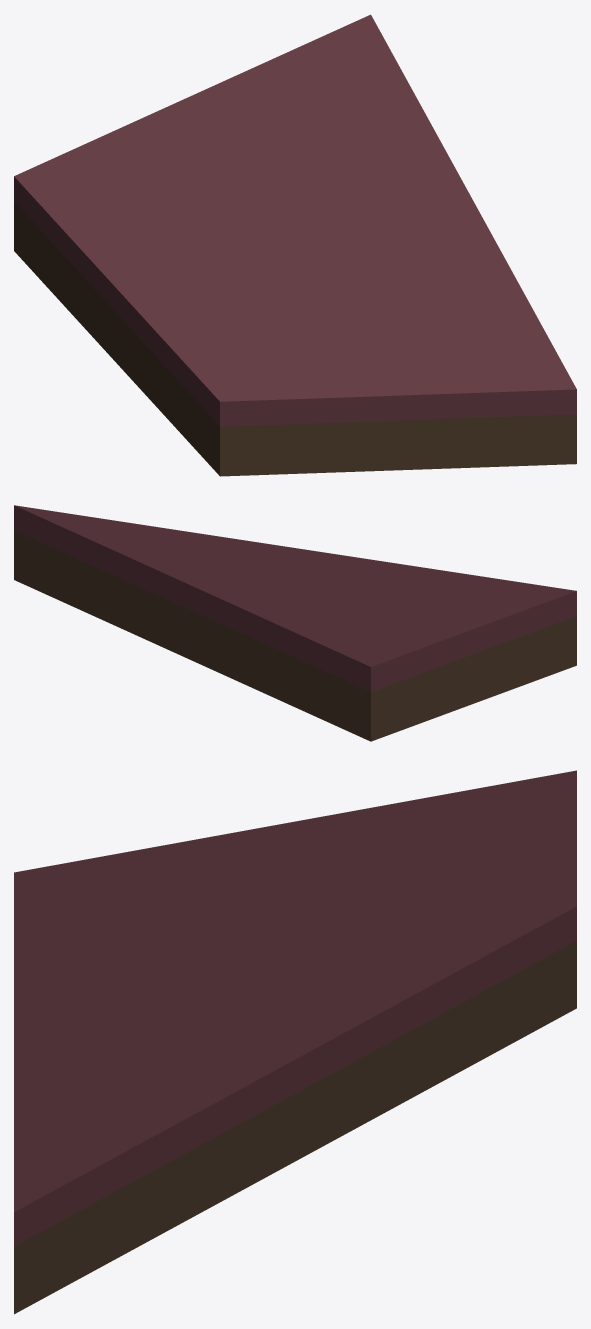
File: tile-hill-askew-valley-corner.fbx
The picture shows the model from 3 angles, top to bottom: view 1: azimuth 30°, elevation 25°; view 2: azimuth 150°, elevation 25°; view 3: azimuth 270°, elevation 25°; orthographic projection. The views are drawn at different scales.
Parts seen in each view (by area): view 1: tile-hill-askew-valley-corner; view 2: tile-hill-askew-valley-corner; view 3: tile-hill-askew-valley-corner.
Boxes of the visible parts, <box> form: tile-hill-askew-valley-corner: <box>14,14,576,476</box>; tile-hill-askew-valley-corner: <box>14,505,576,741</box>; tile-hill-askew-valley-corner: <box>14,770,576,1314</box>.
Size of the model in its own units: 30 by 24 by 30.
